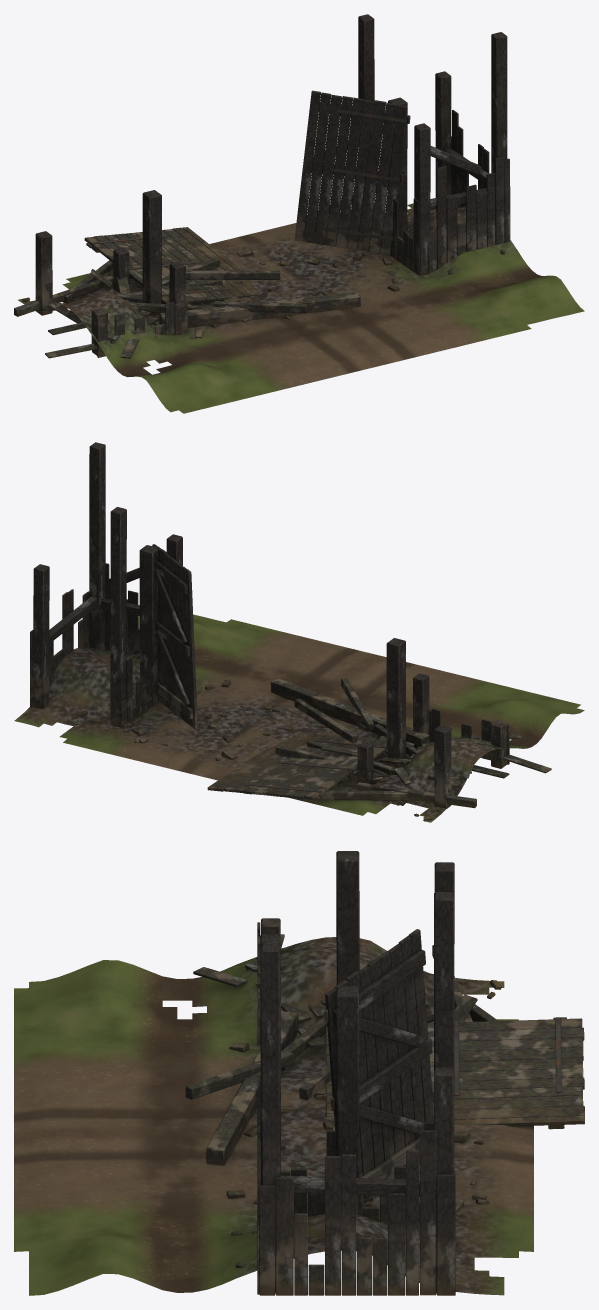
The model's file is gate_ruin.glb.
The picture shows the model from 3 angles, top to bottom: view 1: azimuth 30°, elevation 25°; view 2: azimuth 150°, elevation 25°; view 3: azimuth 270°, elevation 25°; orthographic projection. The views are drawn at different scales.
Parts seen in each view (by area): view 1: gate_ruin_LOD0; view 2: gate_ruin_LOD0; view 3: gate_ruin_LOD0.
Part boxes in pixels (x1,y1,x2,y2): gate_ruin_LOD0: [14, 14, 584, 413]; gate_ruin_LOD0: [14, 442, 584, 822]; gate_ruin_LOD0: [14, 851, 584, 1295].
Size of what is drawn, in the model's own units: 13.28 by 6.25 by 9.22.
Materials: 1 (1 with a texture image).
